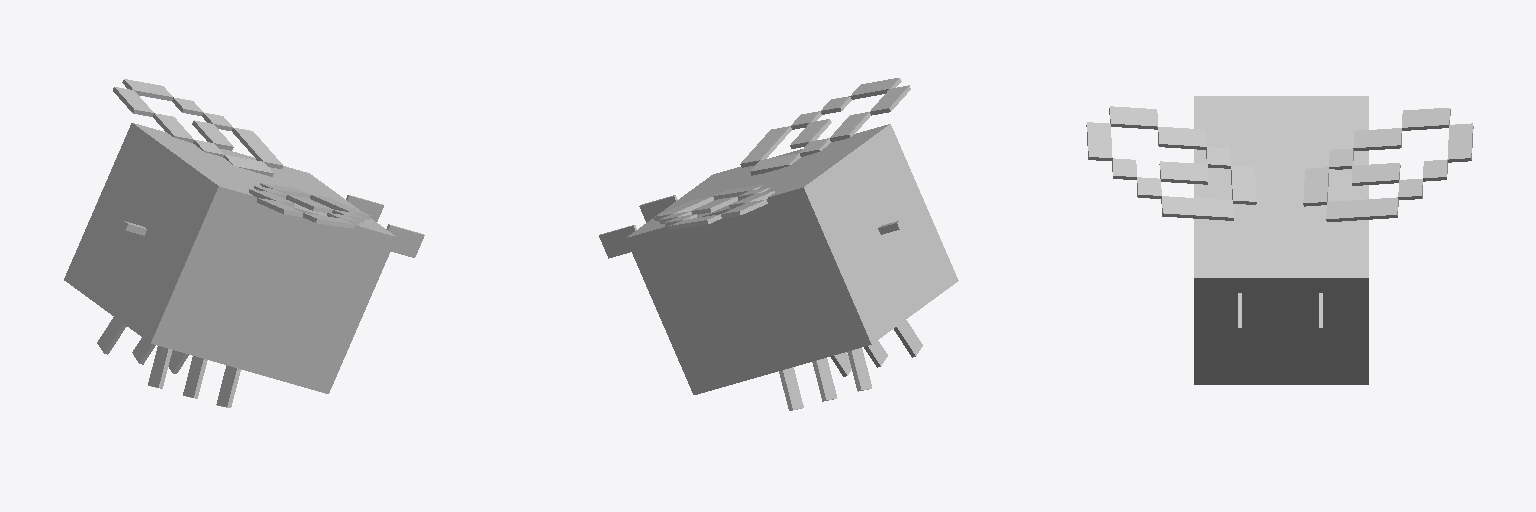
The model's file is Bee_ (22).obj.
3 renders of one model, left to right at view 1: azimuth 30°, elevation 25°; view 2: azimuth 150°, elevation 25°; view 3: azimuth 270°, elevation 25°, orthographic.
Visible parts, largest first — view 1: b_Bee_MAT_0, r_Bee_MAT_0, l_Bee_MAT_0; view 2: b_Bee_MAT_0, l_Bee_MAT_0, r_Bee_MAT_0; view 3: b_Bee_MAT_0, l_Bee_MAT_0, r_Bee_MAT_0.
Part boxes in pixels (bbox=[...]): b_Bee_MAT_0: bbox=[64, 123, 424, 407]; r_Bee_MAT_0: bbox=[113, 79, 282, 176]; l_Bee_MAT_0: bbox=[249, 183, 370, 228]; b_Bee_MAT_0: bbox=[599, 124, 958, 410]; l_Bee_MAT_0: bbox=[740, 78, 910, 175]; r_Bee_MAT_0: bbox=[654, 185, 774, 229]; b_Bee_MAT_0: bbox=[1194, 96, 1368, 384]; l_Bee_MAT_0: bbox=[1086, 106, 1256, 220]; r_Bee_MAT_0: bbox=[1303, 108, 1473, 221].
Size of the model in its own units: 0.3084 by 0.2433 by 0.3493.